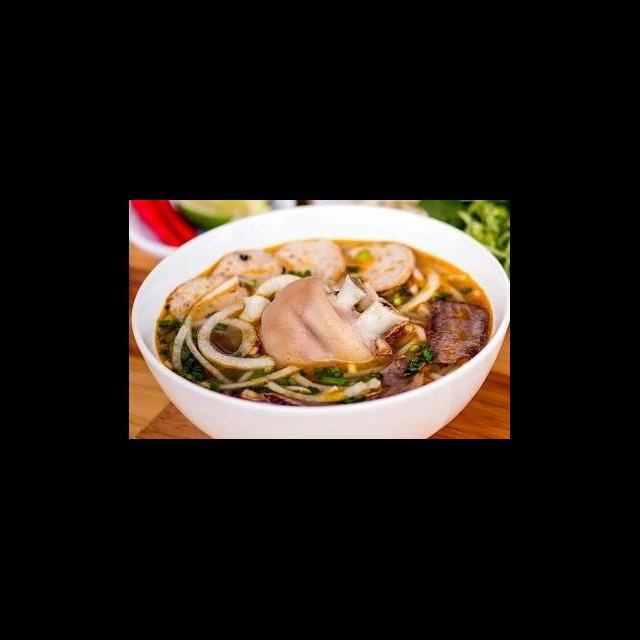bun: (392, 262, 468, 316)
bun bo: (155, 222, 477, 433)
thit bo: (364, 339, 438, 406), (422, 298, 492, 368)
